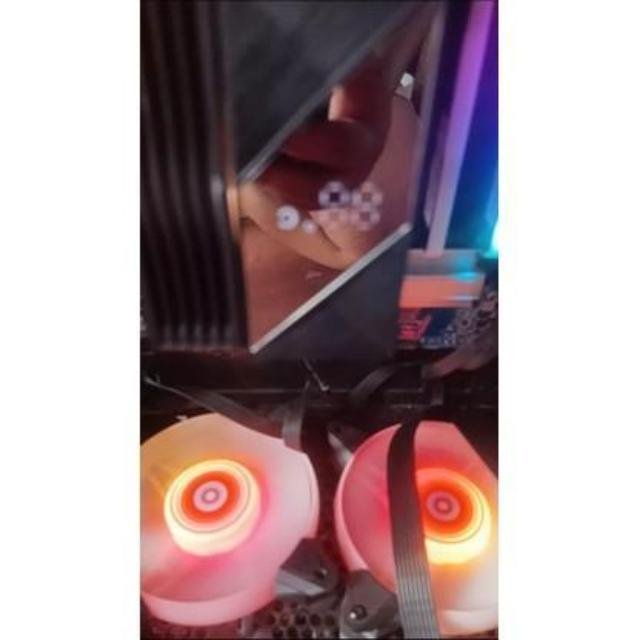CPU_Fan: (145, 0, 500, 382)
